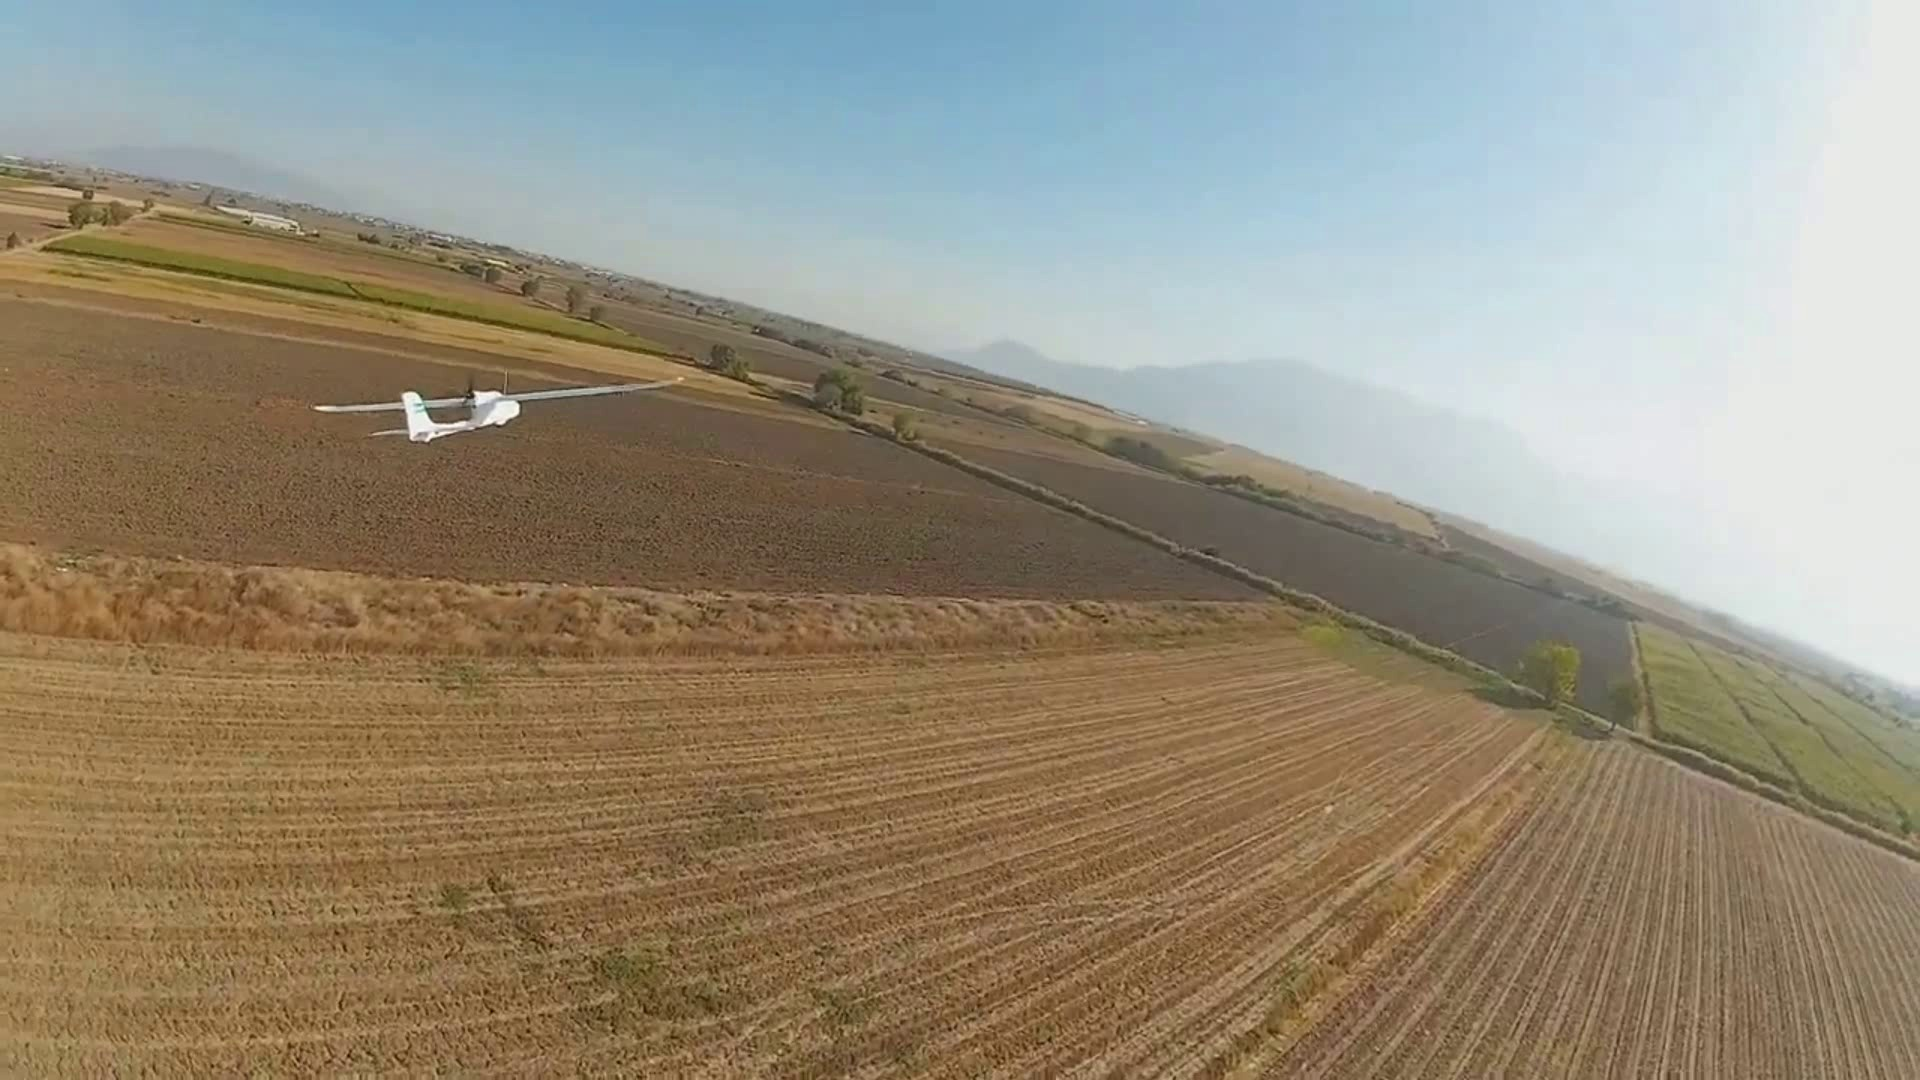airplane: (311, 386, 523, 441)
